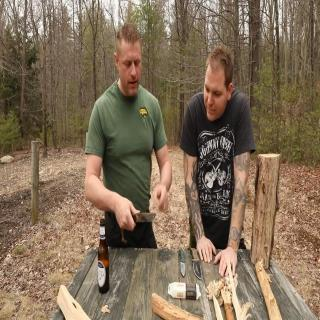knife: (116, 202, 162, 234)
